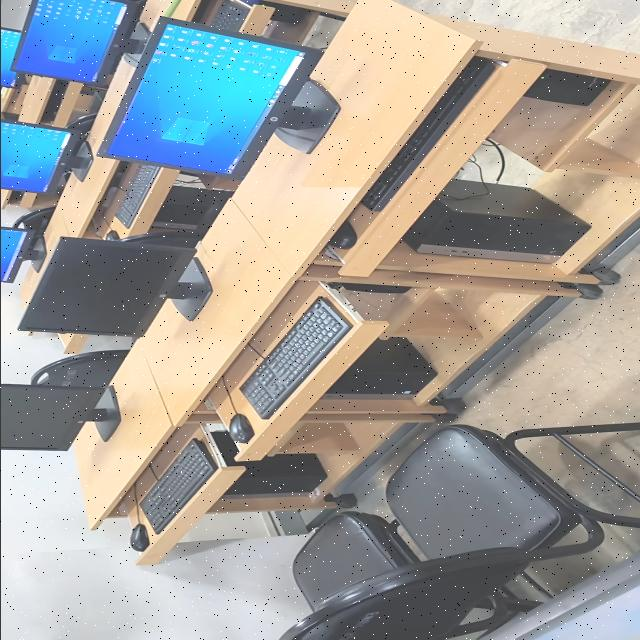Chair: (280, 423, 640, 640), (294, 511, 417, 611), (30, 349, 128, 387)
Cpu: (401, 179, 589, 261), (212, 431, 325, 496), (321, 337, 435, 400), (150, 186, 230, 232)
Keyboard: (361, 56, 500, 211), (239, 298, 351, 419), (140, 439, 217, 534), (113, 165, 159, 228), (203, 0, 249, 31)
Monitor: (97, 17, 339, 179), (18, 238, 211, 338), (10, 0, 149, 88), (0, 384, 120, 451), (517, 583, 640, 640), (0, 120, 92, 194), (0, 226, 45, 282), (0, 27, 24, 88)
Mouse: (325, 220, 356, 250), (228, 414, 253, 443), (129, 524, 148, 552), (103, 231, 117, 240)
